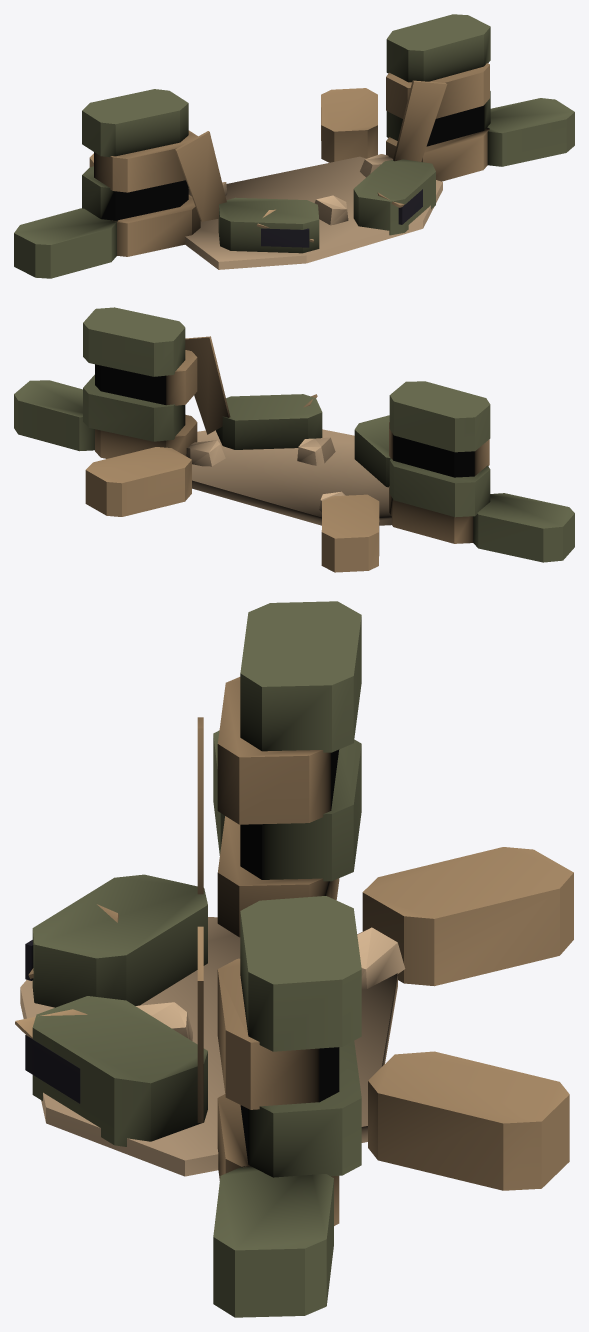
File: decay.blown-sandbags.lod1.glb
The picture shows the model from 3 angles, top to bottom: view 1: azimuth 30°, elevation 25°; view 2: azimuth 150°, elevation 25°; view 3: azimuth 270°, elevation 25°; orthographic projection. The views are drawn at different scales.
Visible parts, largest first — view 1: body; view 2: body; view 3: body.
Boxes of the visible parts, x1,y1,x2,y2 form: body: (14,14,574,278); body: (14,307,574,572); body: (15,601,573,1317).
Bounding box in the file's own units: 3.9 × 0.89 × 1.73.
